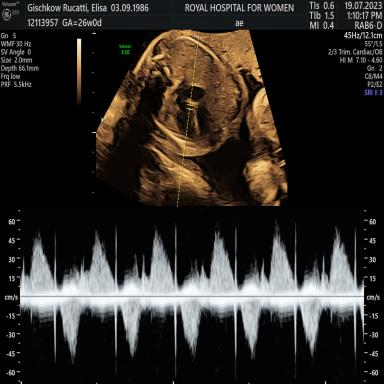Ultrasound-Waves: (25, 212, 361, 384)
